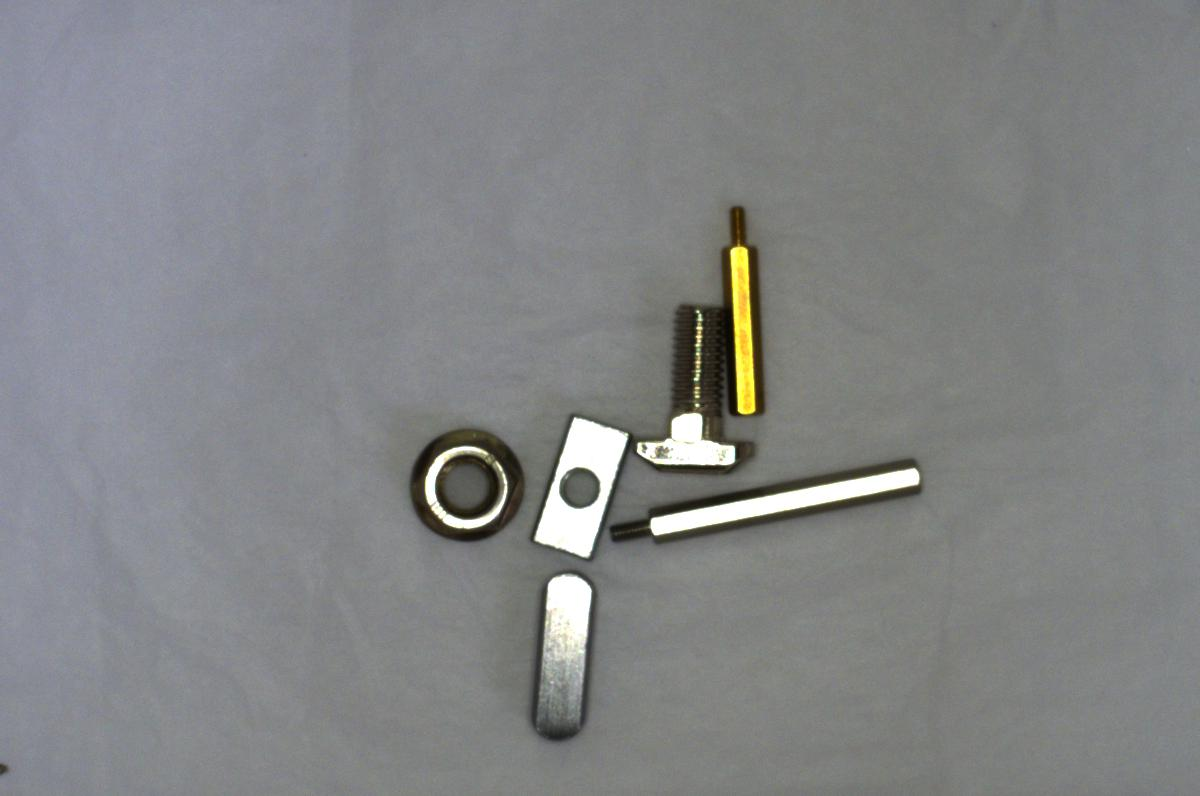Flange nut: (401, 421, 526, 548)
Hexagon pillar: (717, 188, 775, 419)
Hexagonal steel column: (606, 459, 925, 559)
Keybar: (534, 566, 602, 750)
Rectangular nut: (522, 408, 631, 570)
T-shaped screw: (617, 293, 752, 476)
